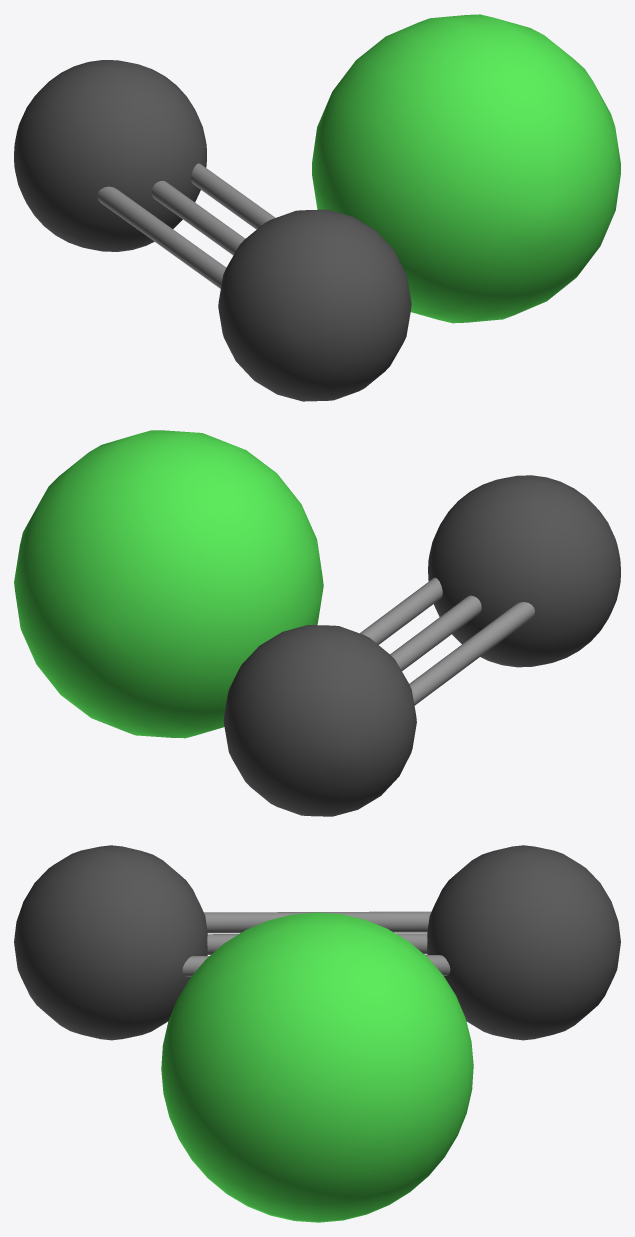
File: CaC2.fbx
3 views of the same model, one above another, from view 1: azimuth 30°, elevation 25°; view 2: azimuth 150°, elevation 25°; view 3: azimuth 270°, elevation 25° (orthographic).
Parts seen in each view (by area): view 1: CaC2; view 2: CaC2; view 3: CaC2.
Part boxes in pixels (<box>): CaC2: <box>14,14,620,401</box>; CaC2: <box>14,430,620,816</box>; CaC2: <box>14,845,620,1222</box>.
Size of the model in its own units: 4.69 by 2.67 by 5.19.
